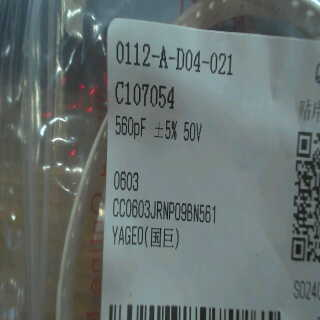560pF: (114, 110, 147, 143)
